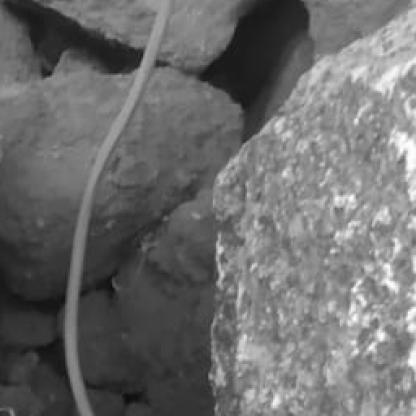wires: (64, 0, 172, 414)
